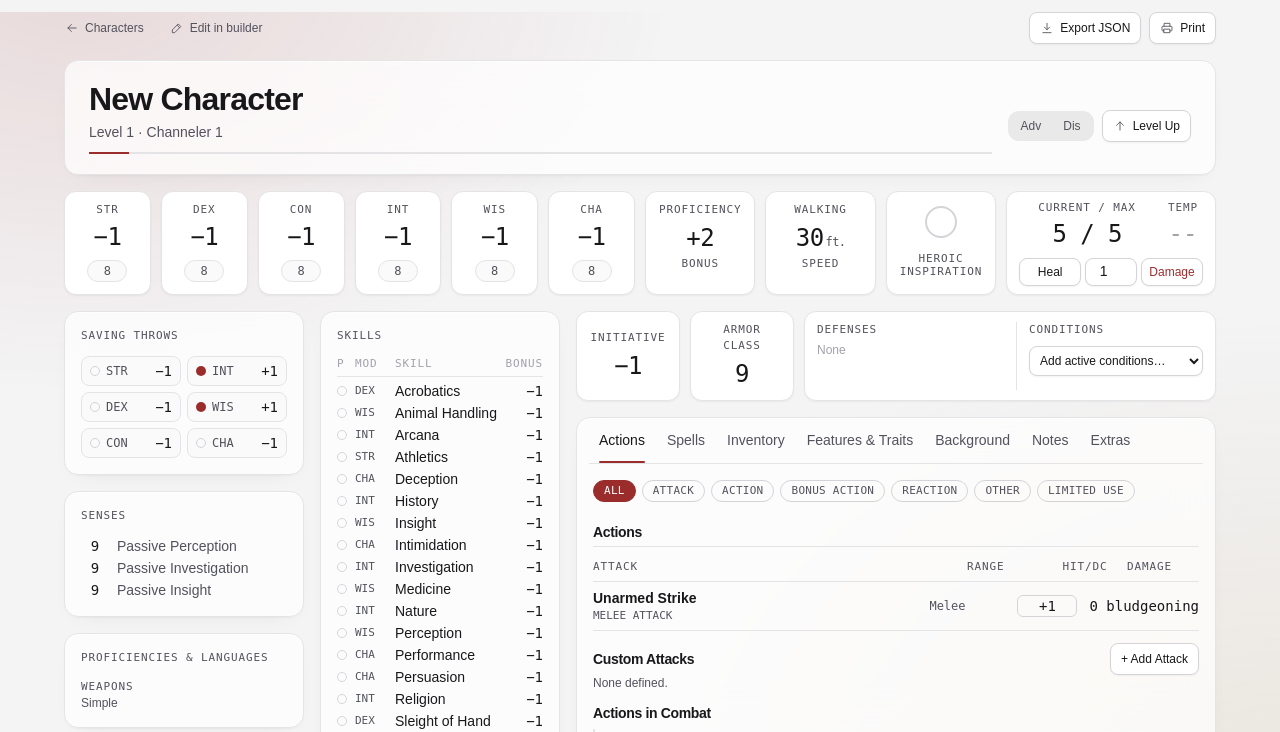
Test: FullSheet interactivity › dice rolls (seeded) › rolls a skill check into the result toast, honoring advantage
The width and height of the screenshot is (1280, 732).
Step 1. Click the button named "Roll Athletics" → {"x": 535, "y": 457}, box [526,447,543,467]
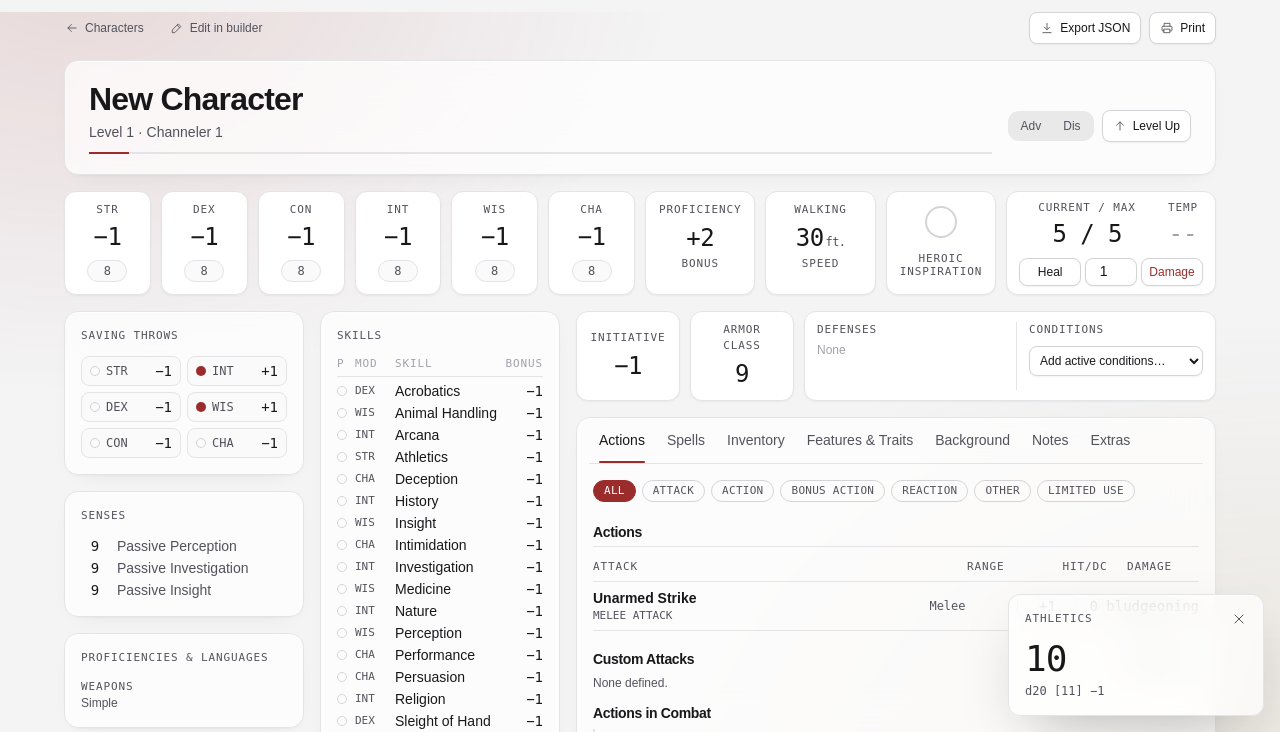
Check: the 2nd text "Athletics" is shown, box [1025,611,1092,627]
Check: the text "10" is shown, box [1025,638,1067,679]
Step 2. Click the button "Adv" → {"x": 1031, "y": 126}, box [1011,114,1051,138]
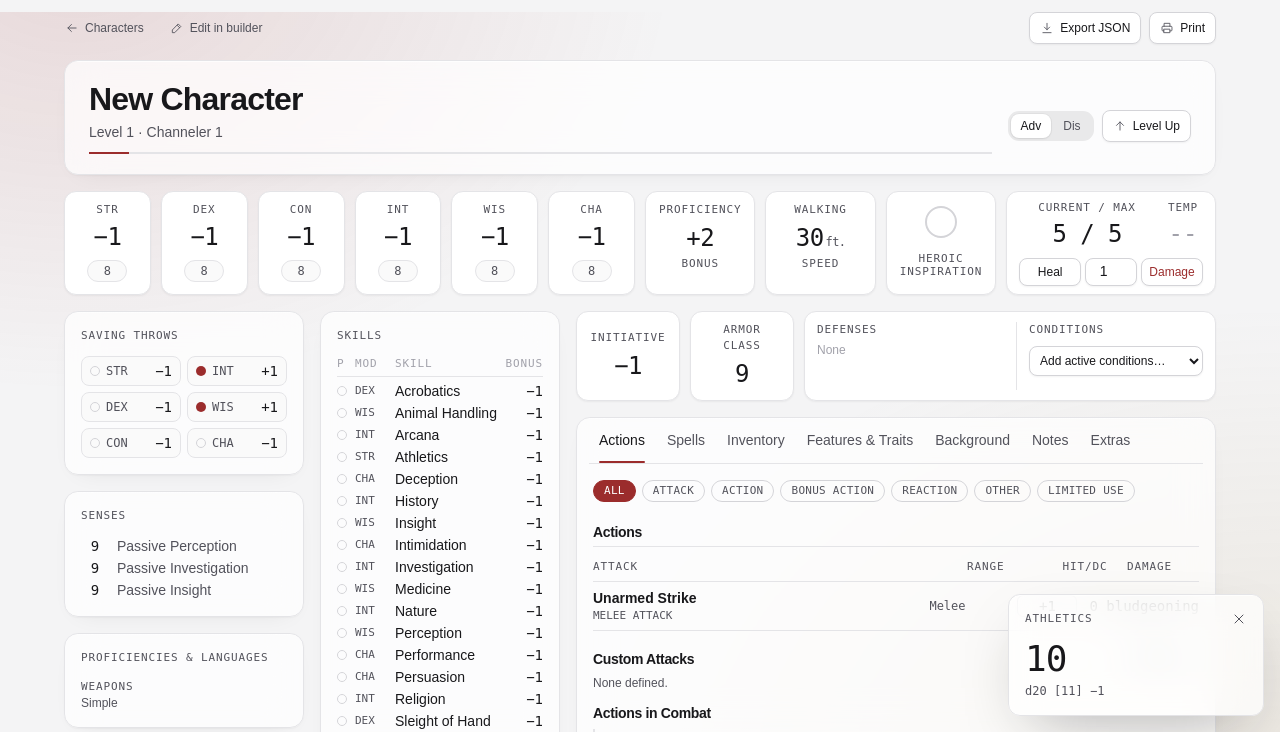
Step 3. Click the button named "Roll Dexterity save" → {"x": 164, "y": 407}, box [155,397,172,417]
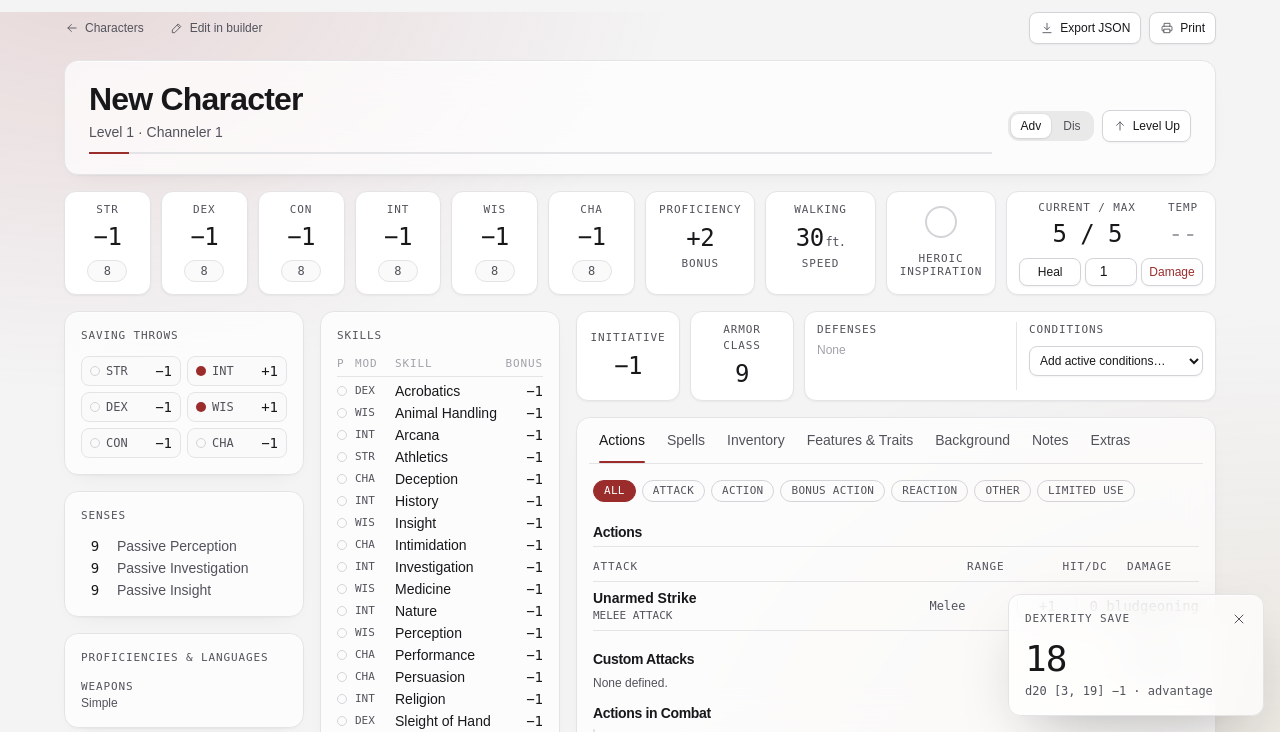
Check: the text "18" is shown, box [1025,638,1067,679]
